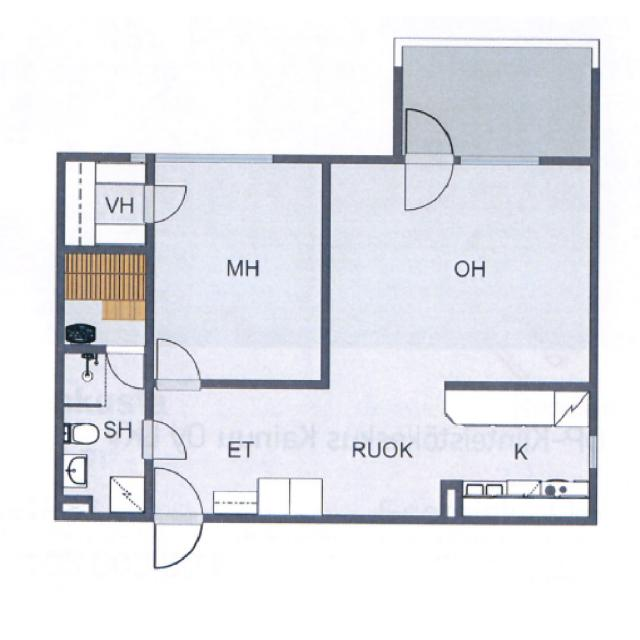door: (155, 516, 202, 573), (155, 468, 202, 524), (406, 105, 452, 162), (406, 153, 452, 209), (158, 337, 199, 388), (144, 421, 190, 458), (106, 345, 142, 390), (145, 185, 186, 220)
